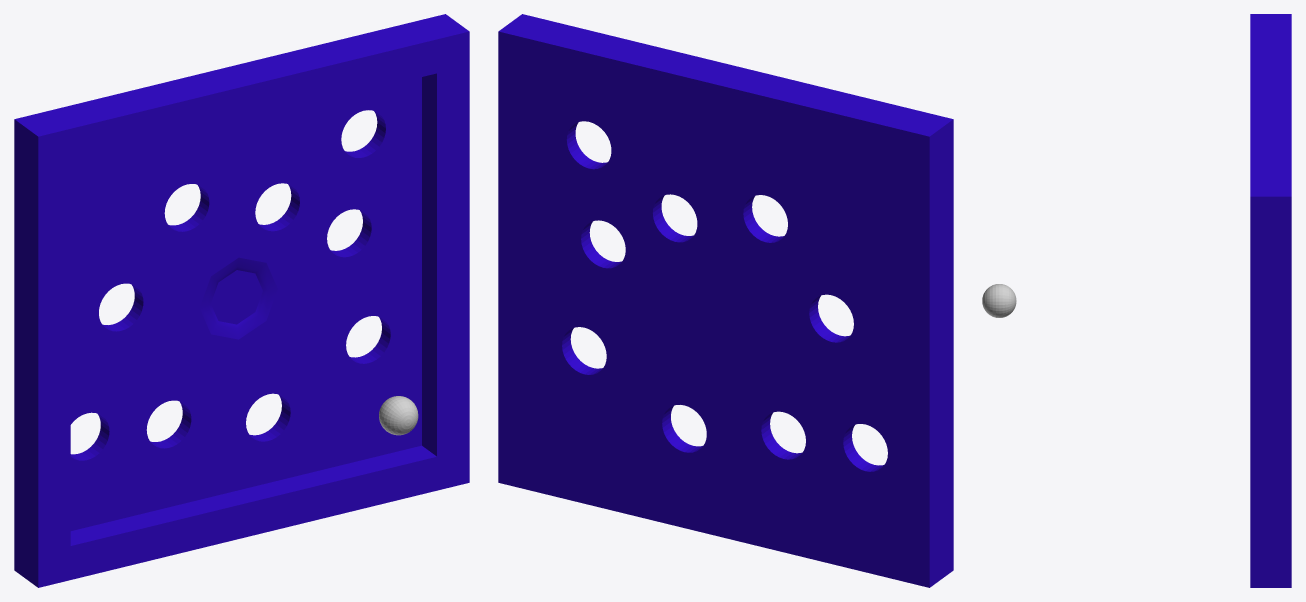
Rendered from game.obj.
3 views of the same model, side by side, from view 1: azimuth 30°, elevation 25°; view 2: azimuth 150°, elevation 25°; view 3: azimuth 270°, elevation 25° (orthographic). The views are drawn at different scales.
Bounding box in the file's own units: 23.06 × 23.06 × 16.53.
